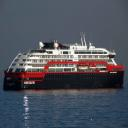cruises: (4, 32, 127, 93)
